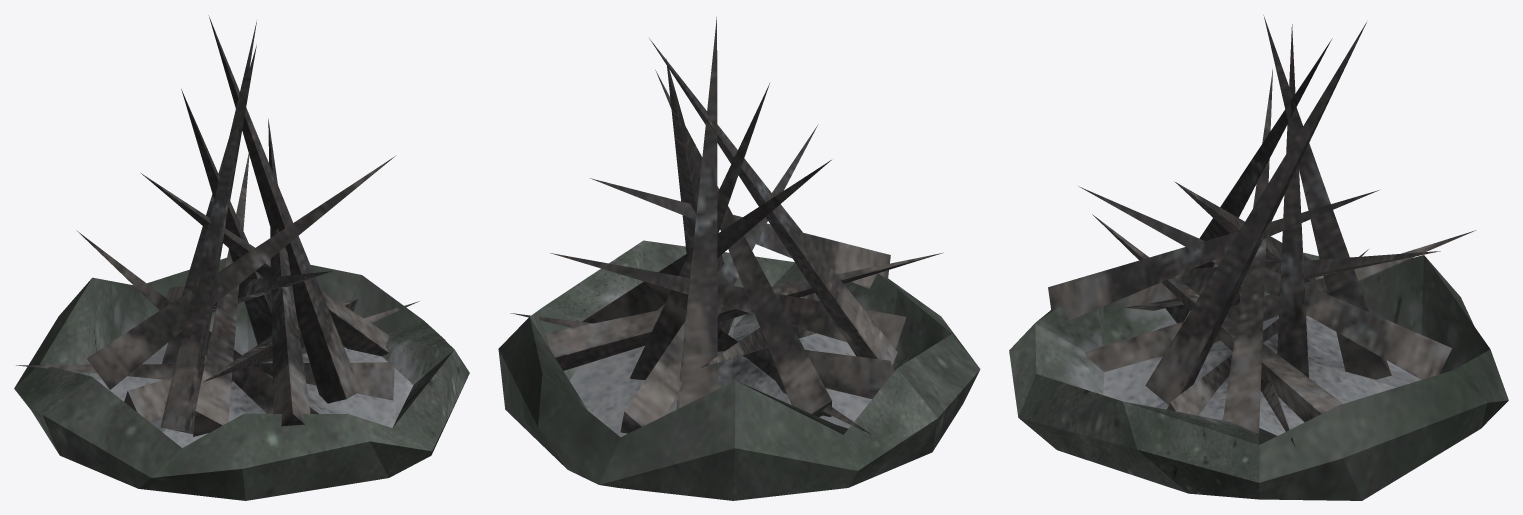
The model's file is SM_CampFire.fbx.
3 views of the same model, side by side, from view 1: azimuth 30°, elevation 25°; view 2: azimuth 150°, elevation 25°; view 3: azimuth 270°, elevation 25° (orthographic). The views are drawn at different scales.
Visible parts, largest first — view 1: SM_CampFire; view 2: SM_CampFire; view 3: SM_CampFire.
Part boxes in pixels (bbox=[...]): SM_CampFire: bbox=[14, 15, 469, 500]; SM_CampFire: bbox=[498, 17, 980, 500]; SM_CampFire: bbox=[1009, 15, 1508, 500].
Size of the model in its own units: 22.22 by 20.32 by 22.28.
Materials: 1 (1 with a texture image).
